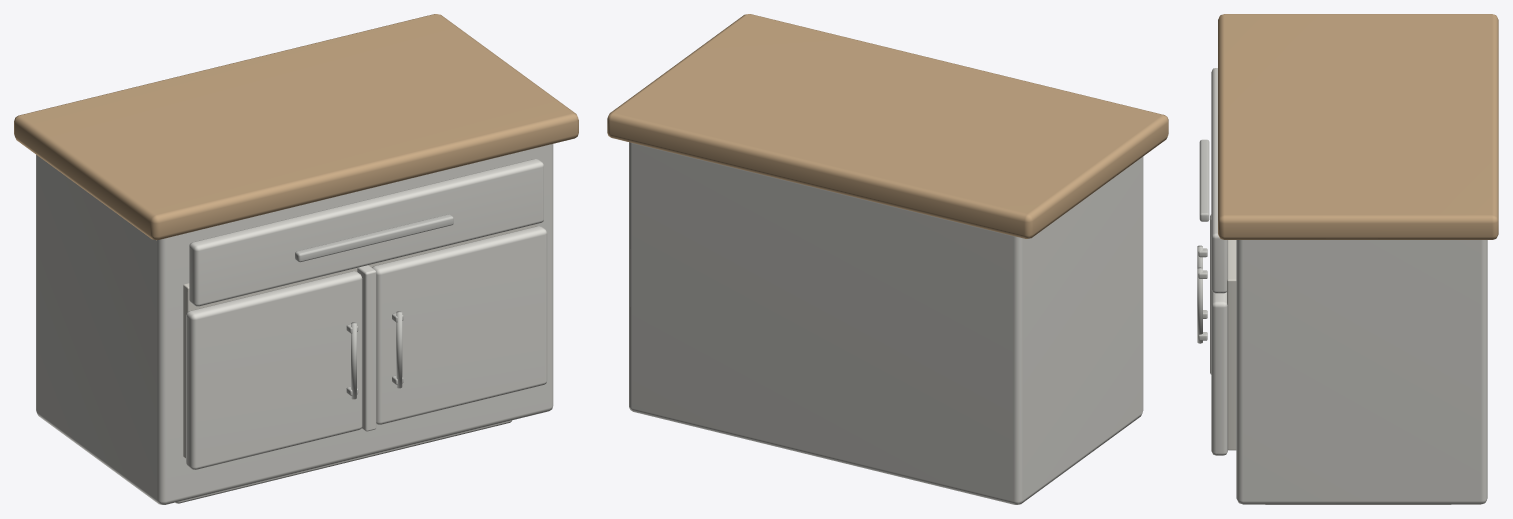
Rendered from lower_cabinet.glb.
3 renders of one model, left to right at view 1: azimuth 30°, elevation 25°; view 2: azimuth 150°, elevation 25°; view 3: azimuth 270°, elevation 25°, orthographic.
Visible parts, largest first — view 1: SM_Kuechenschrank_Unten_Trennstueck_Mitte; view 2: SM_Kuechenschrank_Unten_Trennstueck_Mitte; view 3: SM_Kuechenschrank_Unten_Trennstueck_Mitte.
Boxes of the visible parts, x1=… form: SM_Kuechenschrank_Unten_Trennstueck_Mitte: x1=14, y1=14, x2=578, y2=504; SM_Kuechenschrank_Unten_Trennstueck_Mitte: x1=607, y1=14, x2=1168, y2=504; SM_Kuechenschrank_Unten_Trennstueck_Mitte: x1=1197, y1=14, x2=1498, y2=504.
Bounding box in the file's own units: 1.05 × 0.7378 × 0.6491.
